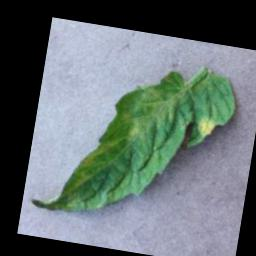Leaf_Mold: (195, 115, 218, 140)
